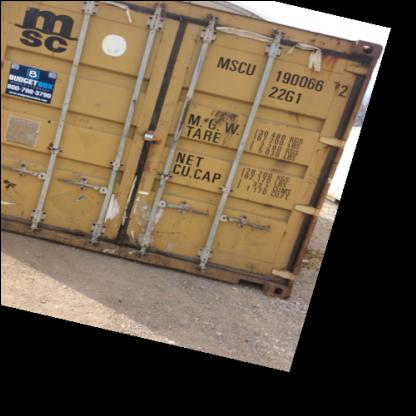Damage: (51, 172, 139, 228), (292, 32, 372, 84), (139, 83, 180, 159), (228, 206, 272, 272), (151, 194, 191, 258), (136, 7, 220, 36), (190, 103, 245, 143), (1, 172, 36, 226), (66, 106, 122, 130), (264, 146, 294, 174)
